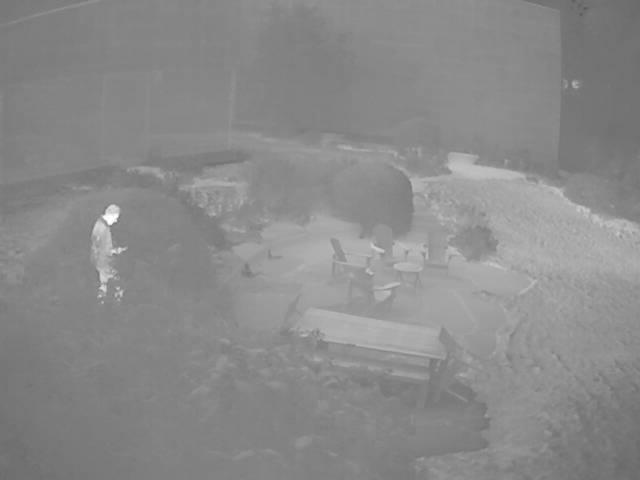person: (90, 205, 124, 311)
